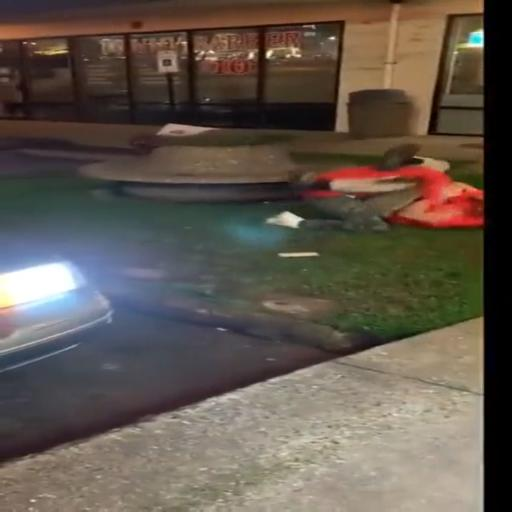violencia: (248, 131, 485, 240)
